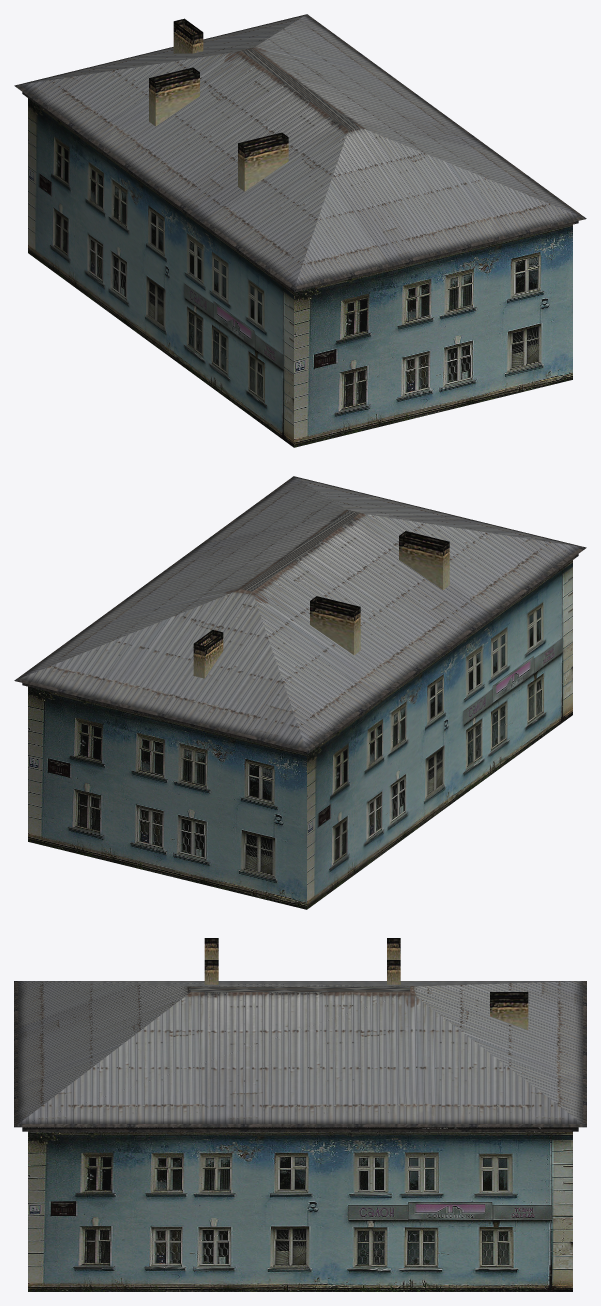
File: sibir_dom_2et5.FBX
3 views of the same model, one above another, from view 1: azimuth 30°, elevation 25°; view 2: azimuth 150°, elevation 25°; view 3: azimuth 270°, elevation 25° (orthographic). The views are drawn at different scales.
Parts seen in each view (by area): view 1: sibir_dom_2et5; view 2: sibir_dom_2et5; view 3: sibir_dom_2et5.
Part boxes in pixels (x1,y1,x2,y2): sibir_dom_2et5: (14, 14, 586, 447); sibir_dom_2et5: (14, 476, 586, 909); sibir_dom_2et5: (14, 938, 586, 1291).
Bounding box in the file's own units: 10.94 × 18.07 × 8.11.
